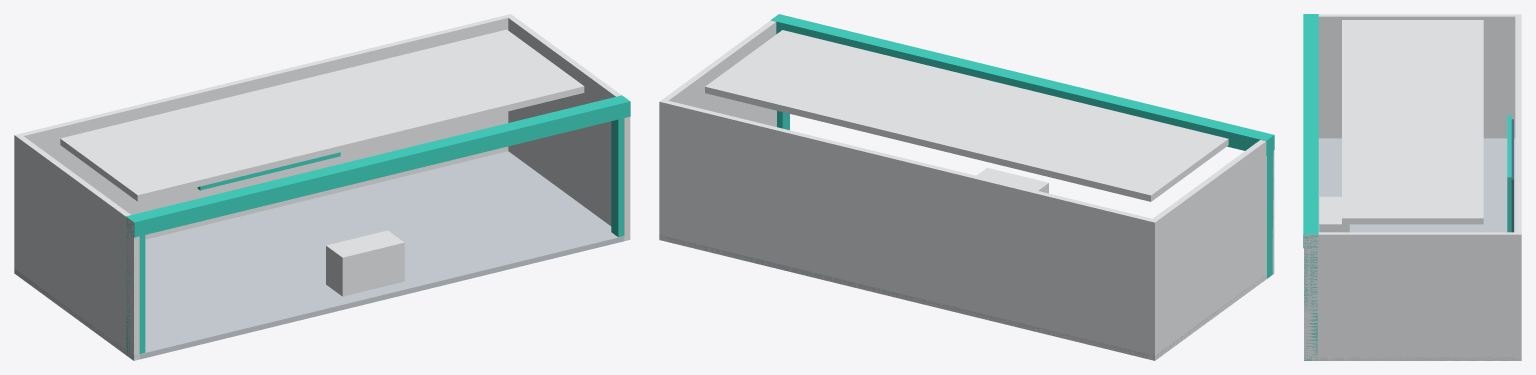
3 views of the same model, side by side, from view 1: azimuth 30°, elevation 25°; view 2: azimuth 150°, elevation 25°; view 3: azimuth 270°, elevation 25° (orthographic). The views are drawn at different scales.
Visible parts, largest first — view 1: Exhibition Booth Concept; view 2: Exhibition Booth Concept; view 3: Exhibition Booth Concept.
Boxes of the visible parts, x1,y1,x2,y2 form: Exhibition Booth Concept: [14, 14, 630, 360]; Exhibition Booth Concept: [659, 14, 1274, 360]; Exhibition Booth Concept: [1303, 14, 1521, 360].
Size of the model in its own units: 12 by 3.34 by 5.02.
